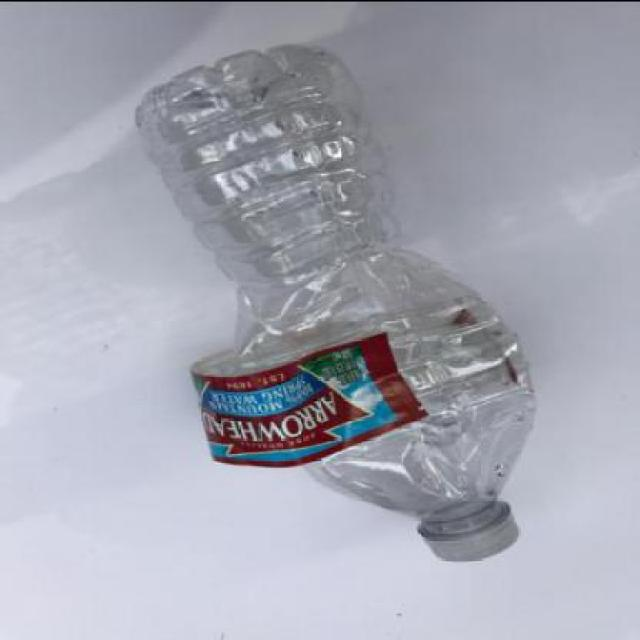PLASTIC: (132, 44, 533, 561), (187, 291, 527, 466), (417, 502, 517, 562)
